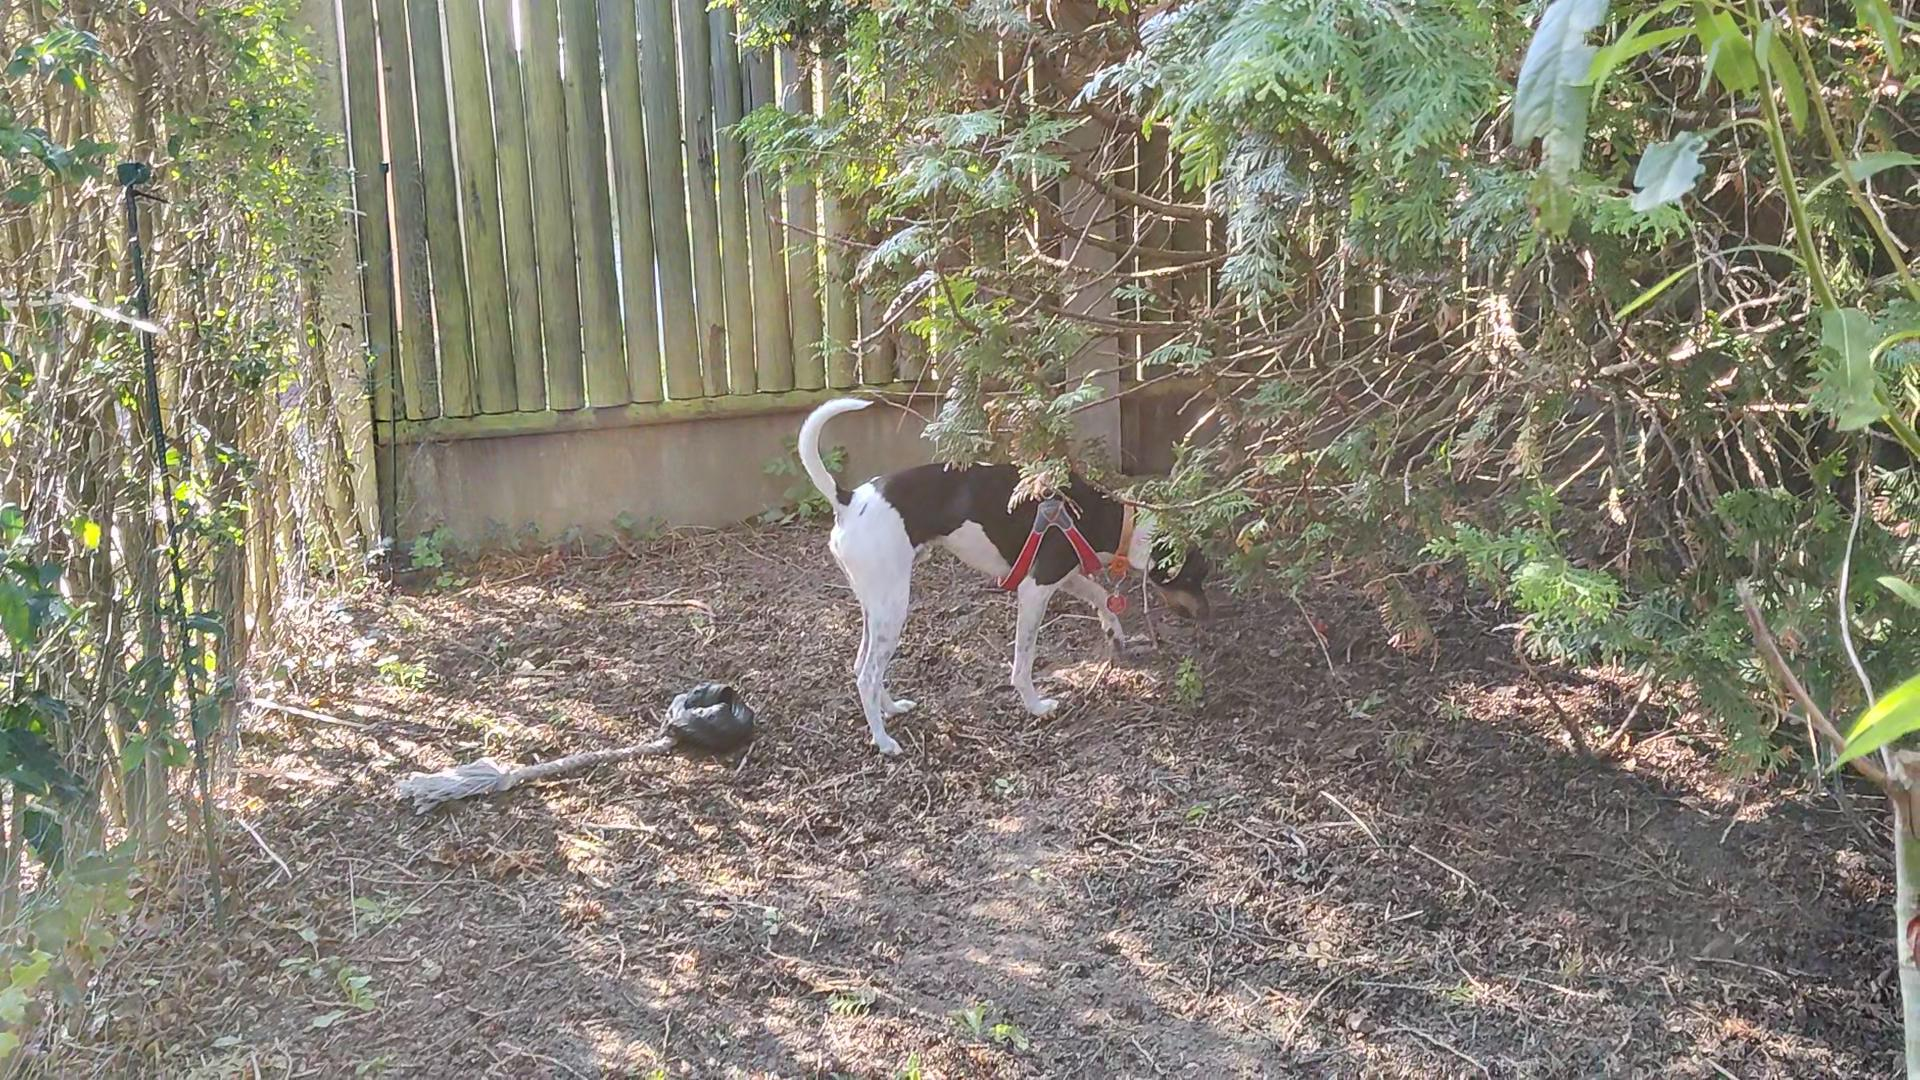Dog: (774, 388, 1240, 764)
